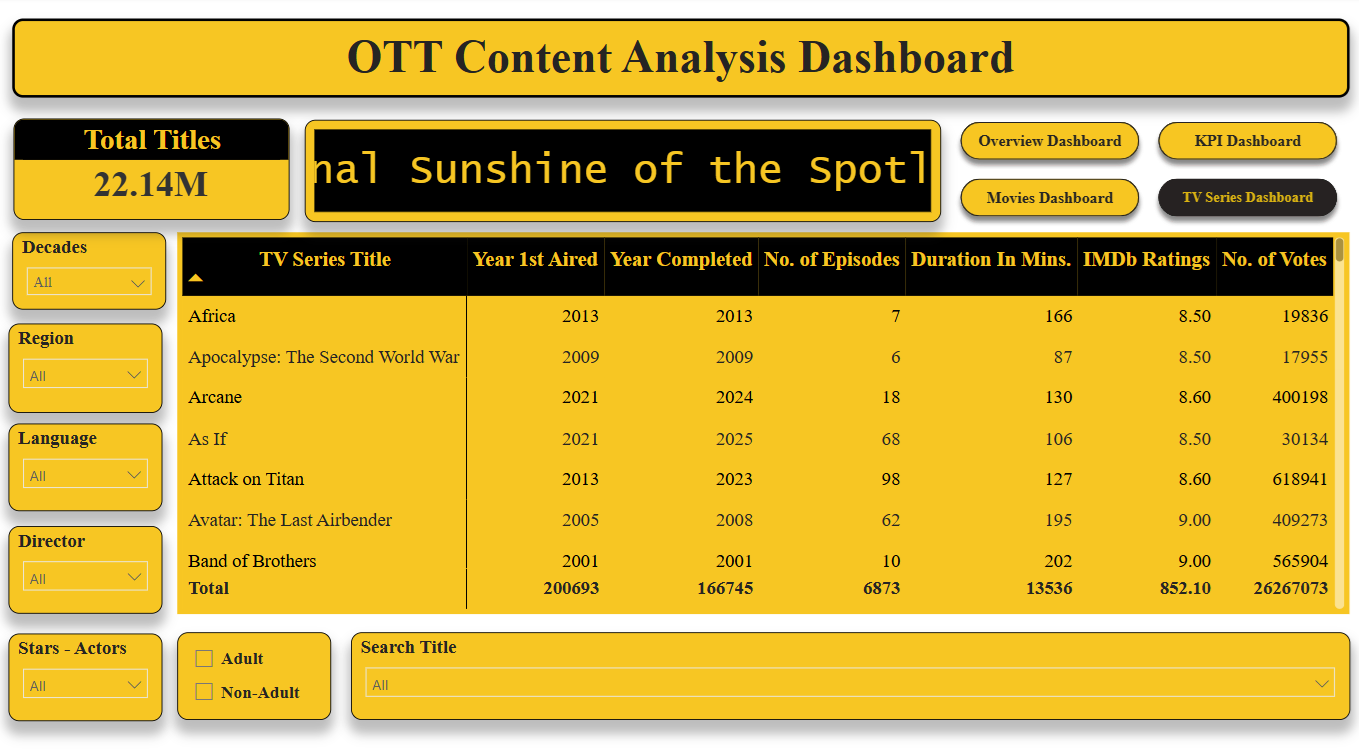

What the dashboard file says about the page in this screenshot:
{"tool":"powerbi","page":{"name":"TV Series Dashboard","canvas":[1280,720],"ordinal":3},"visuals":[{"type":"slicer","fields":{"Values":["final_data_tvseries.isAdult"]},"box":[173.2,592,143.1,81.3],"z":0},{"type":"slicer","title":"Decades","fields":{"Values":["final_data_tvseries.decade"]},"box":[19.6,219.9,143.1,72.3],"z":1000},{"type":"slicer","title":"Region","fields":{"Values":["final_data_tvseries.region"]},"box":[16.6,304.3,143.1,82.8],"z":2000},{"type":"slicer","title":"Language","fields":{"Values":["final_data_tvseries.language"]},"box":[16.6,397.6,143.1,81.3],"z":3000},{"type":"slicer","title":"Director","fields":{"Values":["final_data_tvseries.creators"]},"box":[16,493.6,143.4,81.7],"z":4000},{"type":"slicer","title":"Stars - Actors","fields":{"Values":["final_data_tvseries.stars"]},"box":[16.3,592.4,143.4,81.7],"z":5000},{"type":"textbox","box":[19.6,21.1,1244.2,73.8],"z":6000},{"type":"pivotTable","fields":{"Rows":["final_data_tvseries.title"],"Values":["Sum(final_data_tvseries.year_start)","Sum(final_data_tvseries.year_end)","Sum(final_data_tvseries.episodes)","Sum(final_data_movies.duration_minutes)","Sum(final_data_movies.imdb_rating)","Sum(final_data_tvseries.vote_count)"]},"box":[173.2,219.9,1090.5,355.5],"z":7000},{"type":"slicer","title":"Search Title","fields":{"Values":["final_data_tvseries.title","final_data_tvseries.synopsis"]},"box":[334.4,592,929.4,81.3],"z":8000},{"type":"advanceCardE03760C5AB684758B56AA29F9E6C257B","title":"Total Titles","fields":{"mainMeasure":["Sum(final_data_kpi.total_titles)"]},"box":[20.6,114.5,256.6,94.3],"z":9000},{"type":"ScrollingTextVisual1448795304508","fields":{"Category":["final_data_movies.title"],"Measure Deviation":["Sum(final_data_movies.imdb_rating)"]},"box":[291.9,115.1,592,94.9],"z":10000},{"type":"pageNavigator","box":[893.3,108.1,369.8,106.8],"z":11000}]}

Visuals, with their boxes in screenshot pixels (x1, y1, x2, y2), scaled from the page's 1280x720 canvas onto the 1359x755 screenshot:
slicer - final_data_tvseries.isAdult: <bbox>184, 621, 336, 706</bbox>
"Decades" slicer: <bbox>21, 231, 173, 306</bbox>
"Region" slicer: <bbox>18, 319, 170, 406</bbox>
"Language" slicer: <bbox>18, 417, 170, 502</bbox>
"Director" slicer: <bbox>17, 518, 169, 603</bbox>
"Stars - Actors" slicer: <bbox>17, 621, 170, 707</bbox>
textbox: <bbox>21, 22, 1342, 100</bbox>
pivotTable - final_data_tvseries.title x Sum(final_data_tvseries.year_start): <bbox>184, 231, 1342, 603</bbox>
"Search Title" slicer: <bbox>355, 621, 1342, 706</bbox>
"Total Titles" advanceCardE03760C5AB684758B56AA29F9E6C257B: <bbox>22, 120, 294, 219</bbox>
ScrollingTextVisual1448795304508 - final_data_movies.title x Sum(final_data_movies.imdb_rating): <bbox>310, 121, 938, 220</bbox>
pageNavigator: <bbox>948, 113, 1341, 225</bbox>
